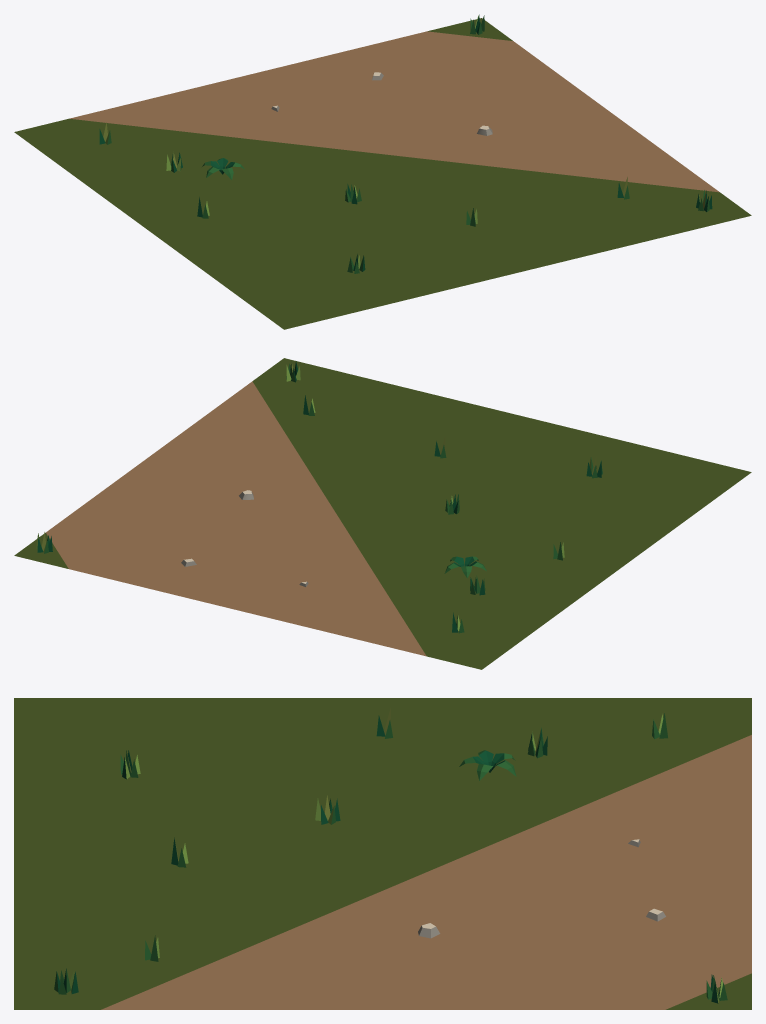
Rendered from TB_Env_GroundEA.FBX.
3 renders of one model, top to bottom at view 1: azimuth 30°, elevation 25°; view 2: azimuth 150°, elevation 25°; view 3: azimuth 270°, elevation 25°, orthographic. The views are drawn at different scales.
Visible parts, largest first — view 1: TB_Env_GroundEA; view 2: TB_Env_GroundEA; view 3: TB_Env_GroundEA.
Part boxes in pixels (x1,y1,x2,y2): TB_Env_GroundEA: [14, 14, 751, 329]; TB_Env_GroundEA: [14, 358, 751, 669]; TB_Env_GroundEA: [14, 698, 751, 1009].
Size of the model in its own units: 10 by 0.394 by 10.
